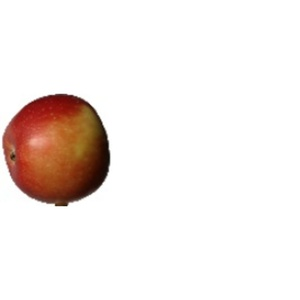maçã braeburn: (2, 91, 117, 200)
